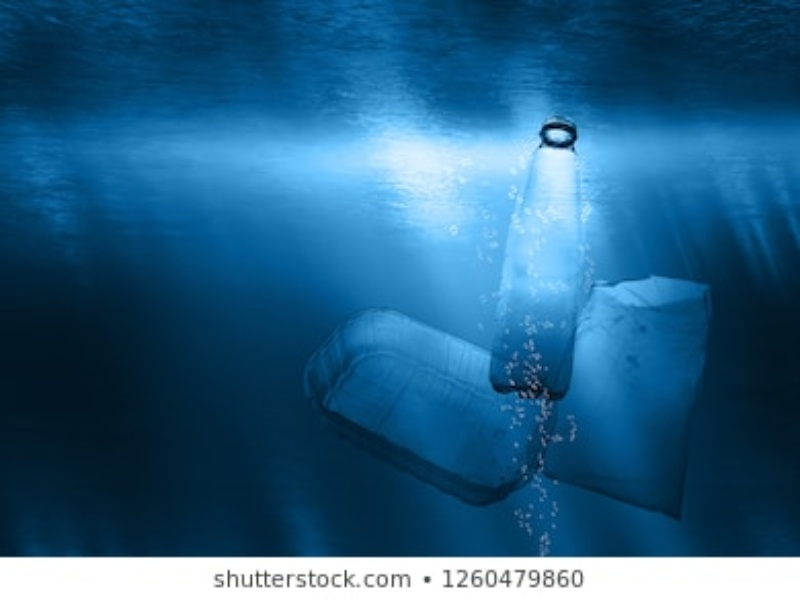plastic-bag: (533, 276, 717, 526)
plastic-bottle: (489, 112, 580, 394)
plastic-container: (298, 305, 558, 502)
